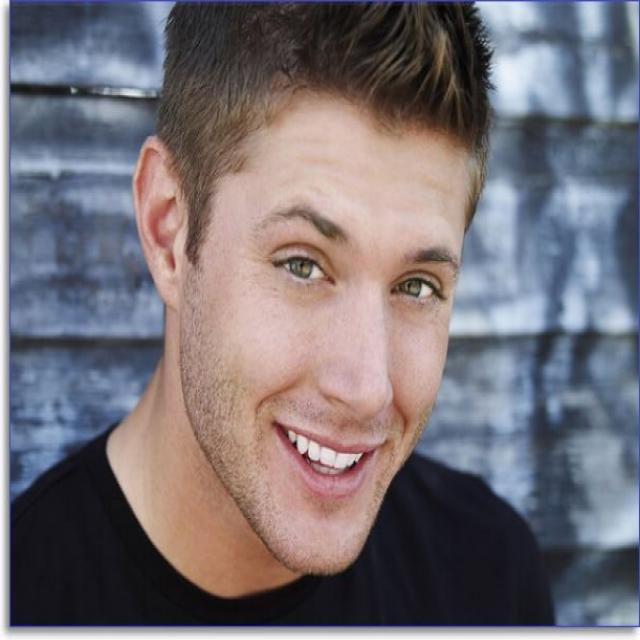earlobe: (152, 256, 185, 314)
eye: (275, 251, 337, 287), (389, 272, 443, 304)
nose: (318, 396, 389, 445)
wholeear: (132, 135, 185, 314)
